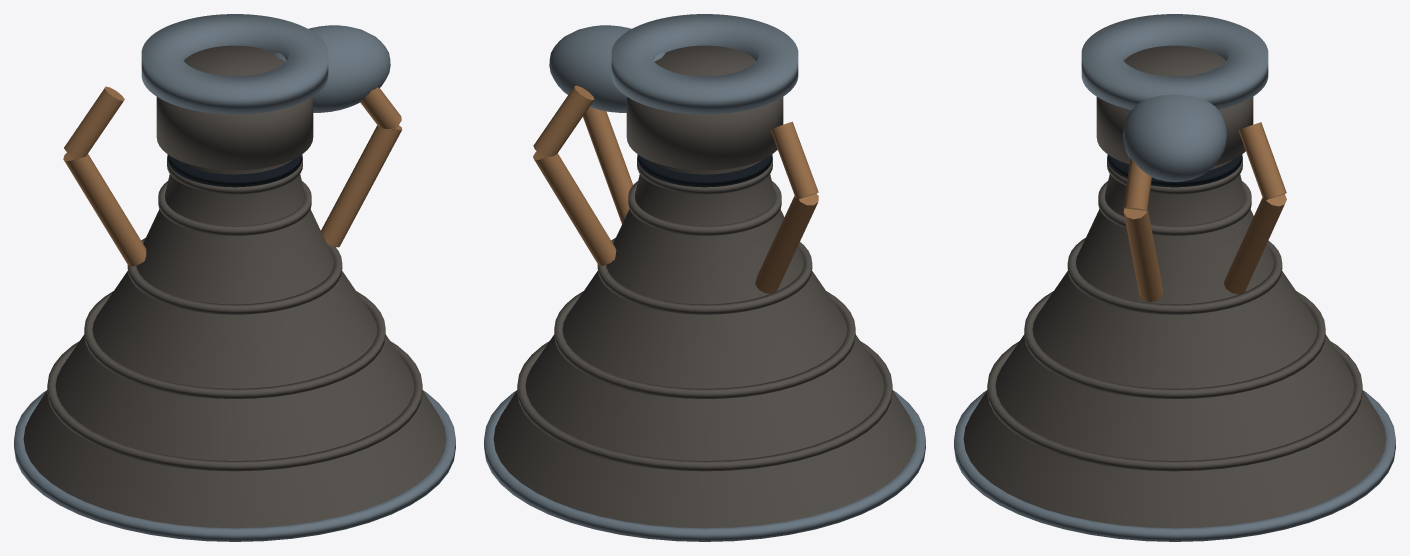
The picture shows the model from 3 angles, left to right: view 1: azimuth 30°, elevation 25°; view 2: azimuth 150°, elevation 25°; view 3: azimuth 270°, elevation 25°; orthographic projection.
Parts seen in each view (by area): view 1: s_ic.f1_05.nozzle.mesh, s_ic.f1_05.mesh; view 2: s_ic.f1_05.nozzle.mesh, s_ic.f1_05.mesh; view 3: s_ic.f1_05.nozzle.mesh, s_ic.f1_05.mesh.
Part boxes in pixels (x1,y1,x2,y2): s_ic.f1_05.nozzle.mesh: (14,154,455,541); s_ic.f1_05.mesh: (63,14,402,266); s_ic.f1_05.nozzle.mesh: (484,154,925,541); s_ic.f1_05.mesh: (533,14,818,293); s_ic.f1_05.nozzle.mesh: (954,154,1395,541); s_ic.f1_05.mesh: (1081,14,1286,302).
Bounding box in the file's own units: 3.72 × 3.67 × 3.72.
